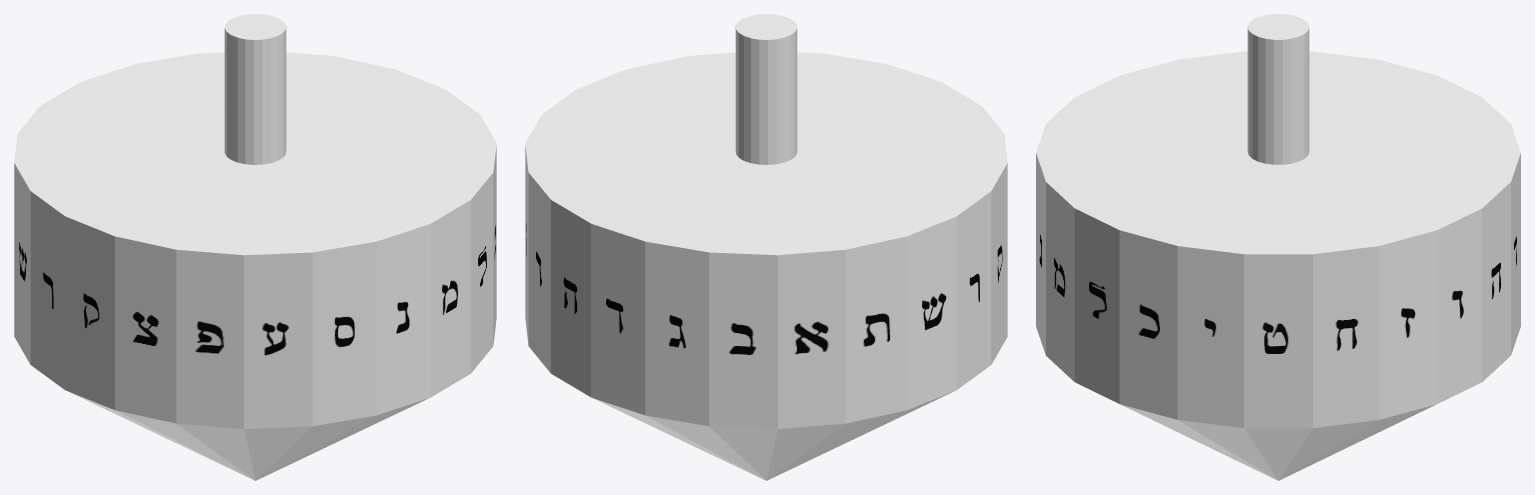
Rendered from dreydl22.fbx.
The picture shows the model from 3 angles, left to right: view 1: azimuth 30°, elevation 25°; view 2: azimuth 150°, elevation 25°; view 3: azimuth 270°, elevation 25°; orthographic projection.
Visible parts, largest first — view 1: Plane.001; view 2: Plane.001; view 3: Plane.001.
Part boxes in pixels (x1,y1,x2,y2): Plane.001: (14,14,496,480); Plane.001: (525,14,1007,480); Plane.001: (1036,14,1520,480).
Size of the model in its own units: 198 by 207 by 200.
